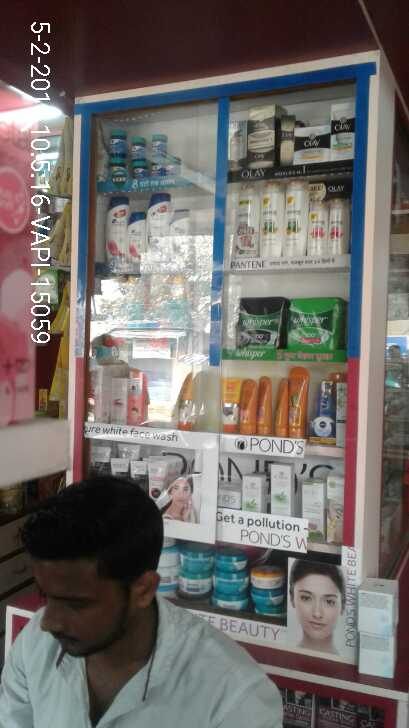vicks: (99, 126, 182, 177)
